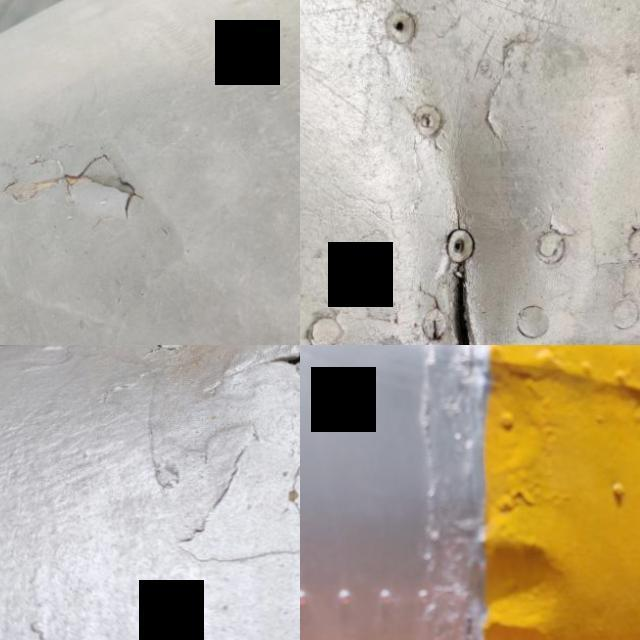Crack: (2, 140, 151, 238), (414, 248, 510, 345), (258, 345, 300, 384)
Dent: (427, 509, 588, 640)
